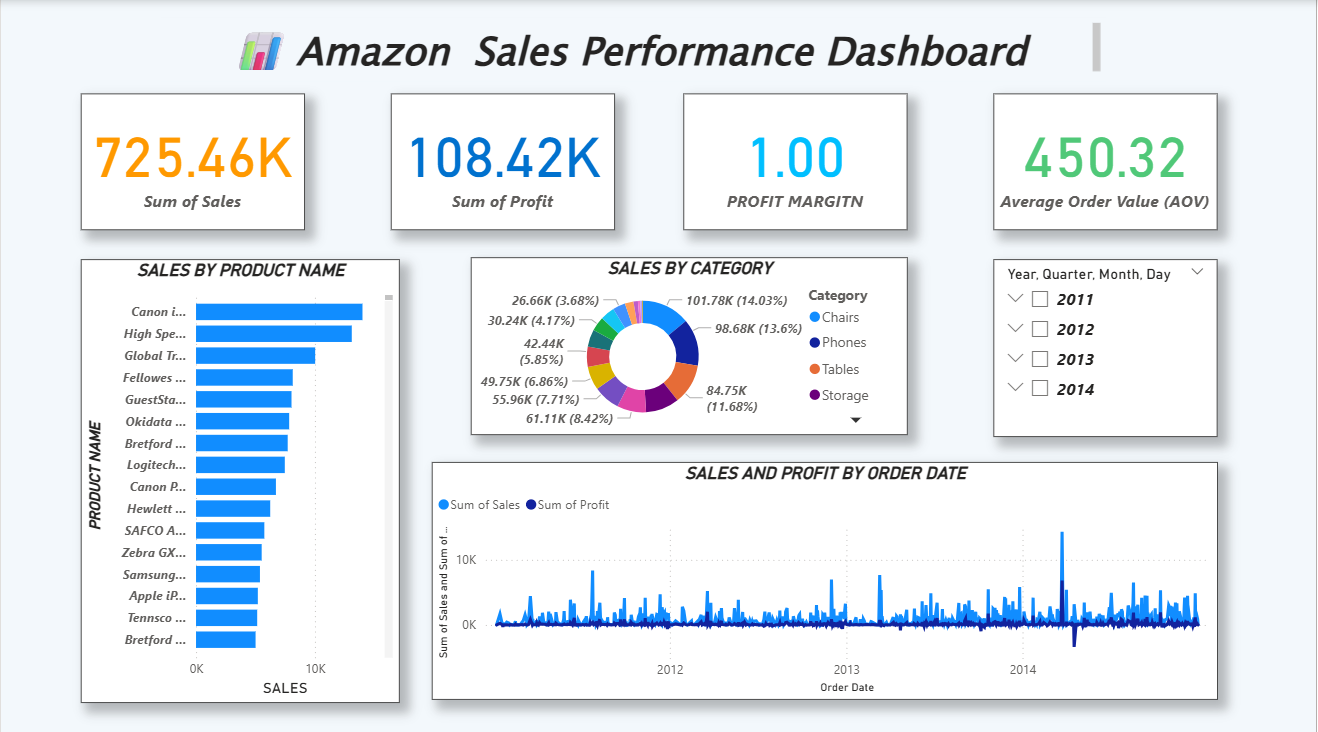

The dashboard page shown, as its layout file describes it:
{"tool":"powerbi","page":{"name":"Page 1","canvas":[1280,720],"ordinal":0},"visuals":[{"type":"card","fields":{"Values":["Sum(Walmart.Sales)"]},"box":[77.1,90.4,217.9,132.9],"z":0},{"type":"card","fields":{"Values":["Sum(Walmart.Profit)"]},"box":[380,90.4,217.9,132.9],"z":1000},{"type":"card","fields":{"Values":["Walmart.PROFIT MARGITN"]},"box":[664.4,90.4,217.9,132.9],"z":2000},{"type":"card","fields":{"Values":["Walmart.Average Order Value (AOV)"]},"box":[967.4,90.4,217.9,132.9],"z":3000},{"type":"lineChart","title":" SALES AND PROFIT BY ORDER DATE","fields":{"Category":["Walmart.Order Date"],"Y":["Sum(Walmart.Sales)","Sum(Walmart.Profit)"]},"box":[419.9,449.1,765.4,231.2],"z":4000},{"type":"donutChart","title":"SALES BY CATEGORY","fields":{"Y":["Sum(Walmart.Sales)"],"Category":["Walmart.Category"]},"box":[457.1,249.8,425.2,172.7],"z":5000},{"type":"barChart","title":"SALES BY  PRODUCT NAME","fields":{"Y":["Sum(Walmart.Sales)"],"Category":["Walmart.Product Name"]},"box":[77,253.3,310,431.6],"z":6000},{"type":"slicer","fields":{"Values":["Walmart.Order Date.Variation.Date Hierarchy.Year","Walmart.Order Date.Variation.Date Hierarchy.Quarter","Walmart.Order Date.Variation.Date Hierarchy.Month","Walmart.Order Date.Variation.Date Hierarchy.Day"]},"box":[967.4,252.5,217.9,172.7],"z":7000},{"type":"textbox","box":[156.1,16.7,920.1,62.1],"z":8000}]}

Visuals, with their boxes in screenshot pixels (x1, y1, x2, y2), scaled from the page's 1280x720 canvas onto the 1318x732 screenshot:
card - Sum(Walmart.Sales): l=79, t=92, r=304, b=227
card - Sum(Walmart.Profit): l=391, t=92, r=616, b=227
card - Walmart.PROFIT MARGITN: l=684, t=92, r=908, b=227
card - Walmart.Average Order Value (AOV): l=996, t=92, r=1220, b=227
" SALES AND PROFIT BY ORDER DATE" lineChart: l=432, t=457, r=1220, b=692
"SALES BY CATEGORY" donutChart: l=471, t=254, r=908, b=430
"SALES BY  PRODUCT NAME" barChart: l=79, t=258, r=398, b=696
slicer - Walmart.Order Date.Variation.Date Hierarchy.Year x Walmart.Order Date.Variation.Date Hierarchy.Quarter: l=996, t=257, r=1220, b=432
textbox: l=161, t=17, r=1108, b=80
